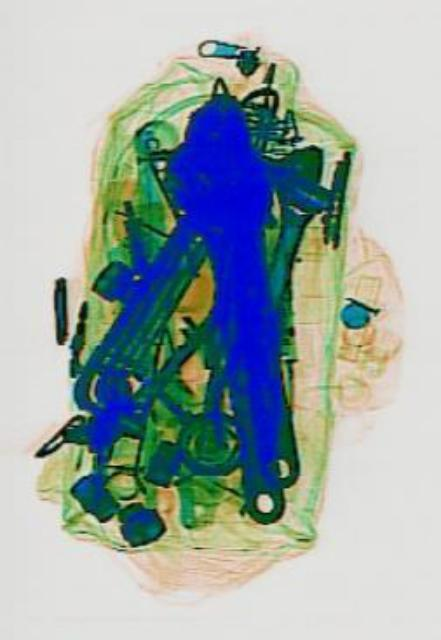Wrench: (235, 128, 332, 332)
